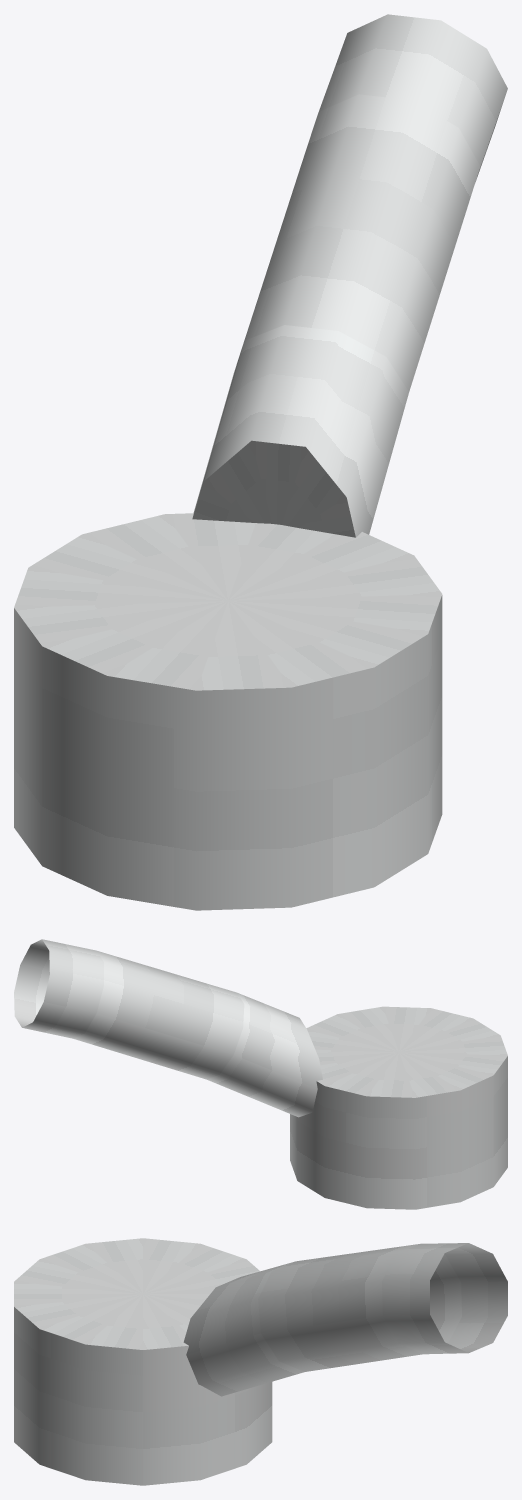
The model's file is nycsignalarm_diagonal12_c1.obj.
3 views of the same model, one above another, from view 1: azimuth 30°, elevation 25°; view 2: azimuth 150°, elevation 25°; view 3: azimuth 270°, elevation 25° (orthographic). The views are drawn at different scales.
Parts seen in each view (by area): view 1: nycsignalarm_diagonal12_c1; view 2: nycsignalarm_diagonal12_c1; view 3: nycsignalarm_diagonal12_c1.
Part boxes in pixels (left/top/right/bottom): nycsignalarm_diagonal12_c1: left=14, top=14, right=507, bottom=910; nycsignalarm_diagonal12_c1: left=14, top=939, right=507, bottom=1209; nycsignalarm_diagonal12_c1: left=14, top=1238, right=507, bottom=1485.
Bounding box in the file's own units: 1.54 × 1.07 × 1.53.
